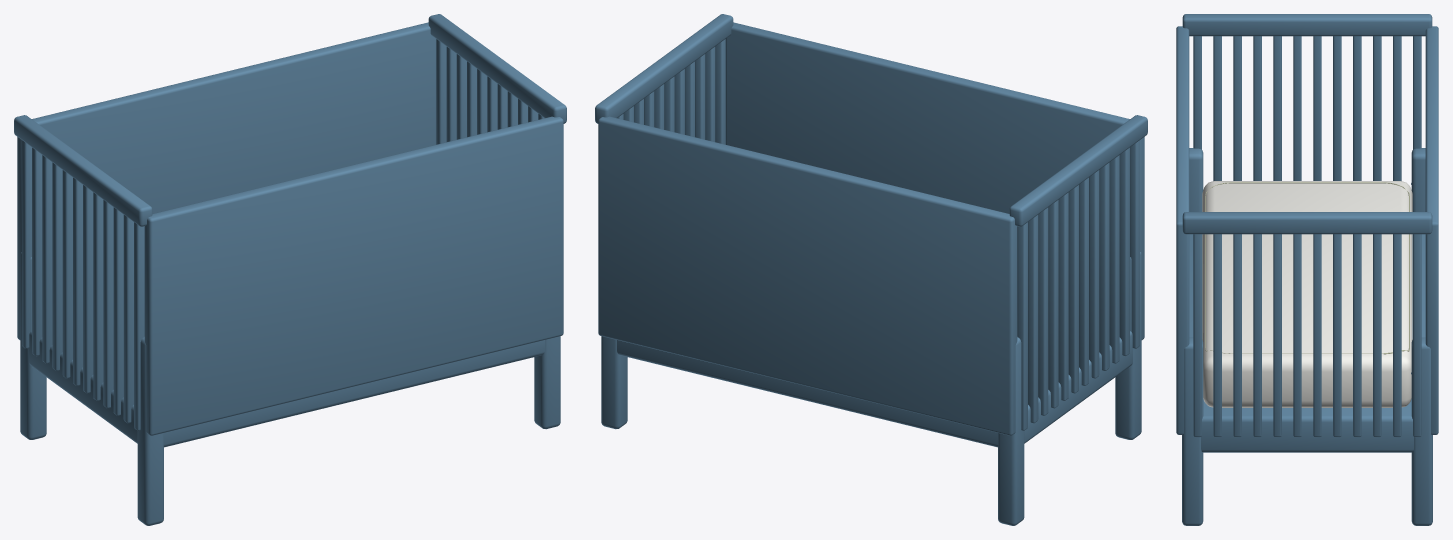
Rendered from nursery-crib.glb.
3 renders of one model, left to right at view 1: azimuth 30°, elevation 25°; view 2: azimuth 150°, elevation 25°; view 3: azimuth 270°, elevation 25°, orthographic. The views are drawn at different scales.
Visible parts, largest first — view 1: nursery-crib; view 2: nursery-crib; view 3: nursery-crib.
Boxes of the visible parts, x1,y1,x2,y2 form: nursery-crib: (14,14,566,525); nursery-crib: (595,14,1147,525); nursery-crib: (1176,14,1438,525).
Bounding box in the file's own units: 1.4 × 1 × 0.76.
